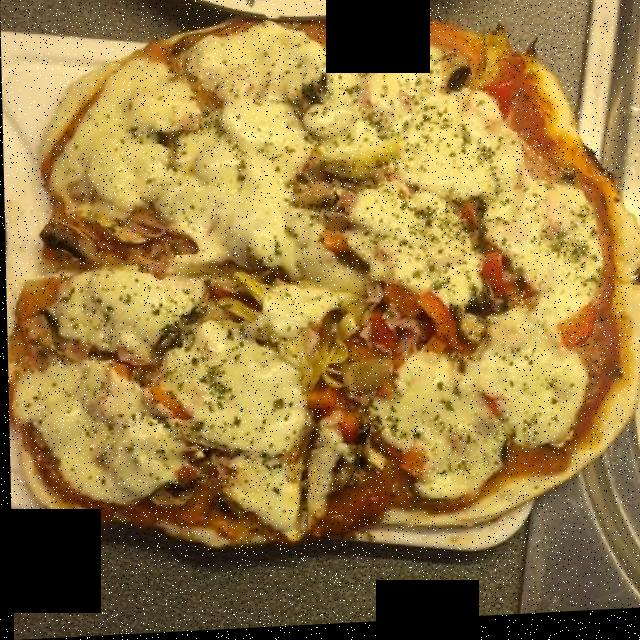ham-cooked: (86, 214, 424, 359)
pizza-with-vegetables-baked: (28, 28, 637, 556)
